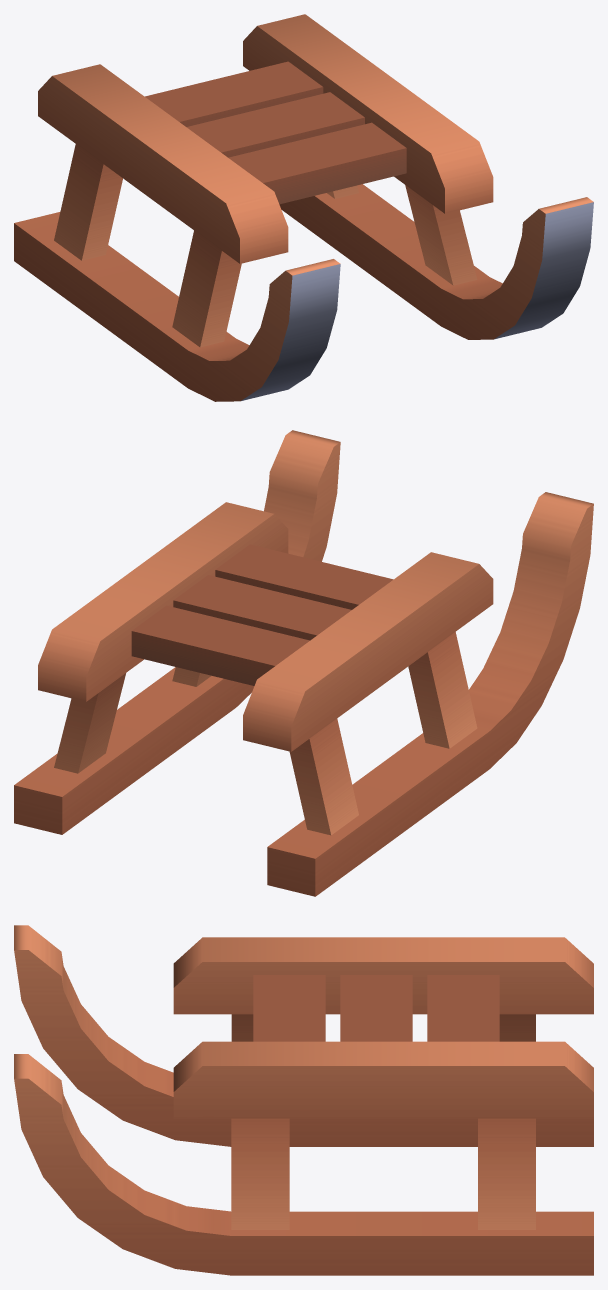
Rendered from cc0-sled-lod0.glb.
The picture shows the model from 3 angles, top to bottom: view 1: azimuth 30°, elevation 25°; view 2: azimuth 150°, elevation 25°; view 3: azimuth 270°, elevation 25°; orthographic projection. The views are drawn at different scales.
Visible parts, largest first — view 1: part_0; view 2: part_0; view 3: part_0.
Part boxes in pixels (bbox=[...]): part_0: bbox=[14, 14, 593, 401]; part_0: bbox=[14, 430, 593, 896]; part_0: bbox=[14, 925, 593, 1275].
Size of the model in its own units: 0.625 by 0.3753 by 1.
1 material, 1 textured.
